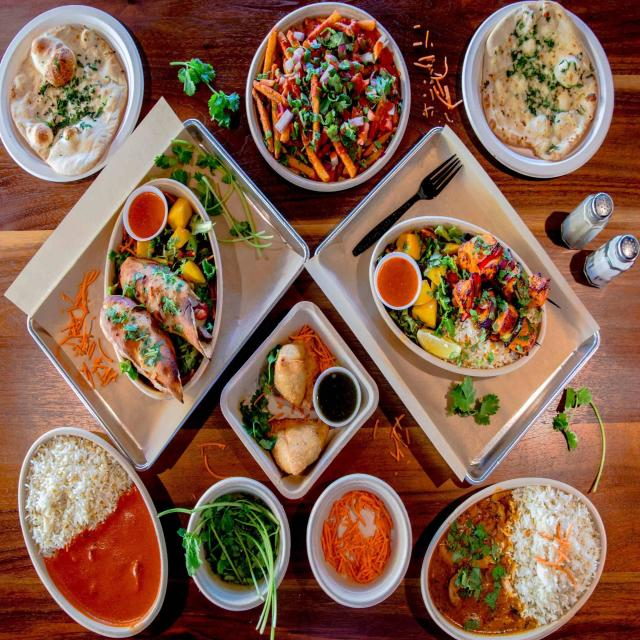banh naan: (462, 0, 628, 165), (1, 1, 145, 186)
com ca ri: (3, 423, 171, 640), (417, 478, 619, 638)
com chien: (370, 193, 554, 389)
ga duc lo voi rau cu: (112, 170, 210, 399)
salad: (250, 5, 404, 182)
